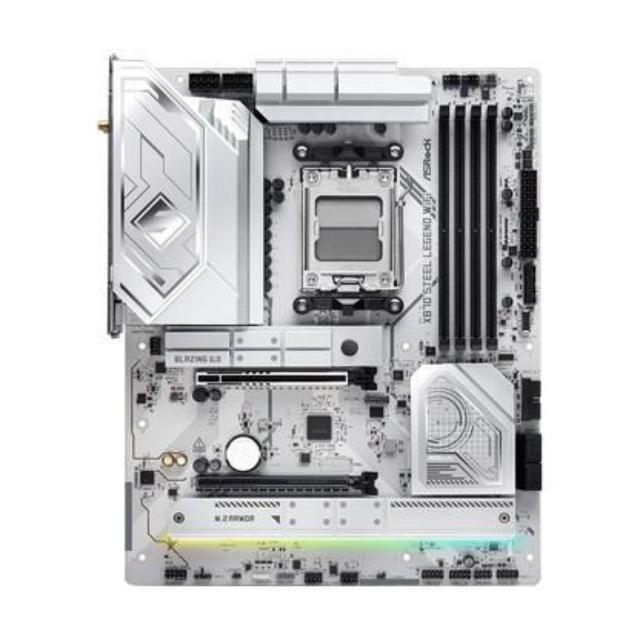Mainboard: (94, 34, 551, 597)
